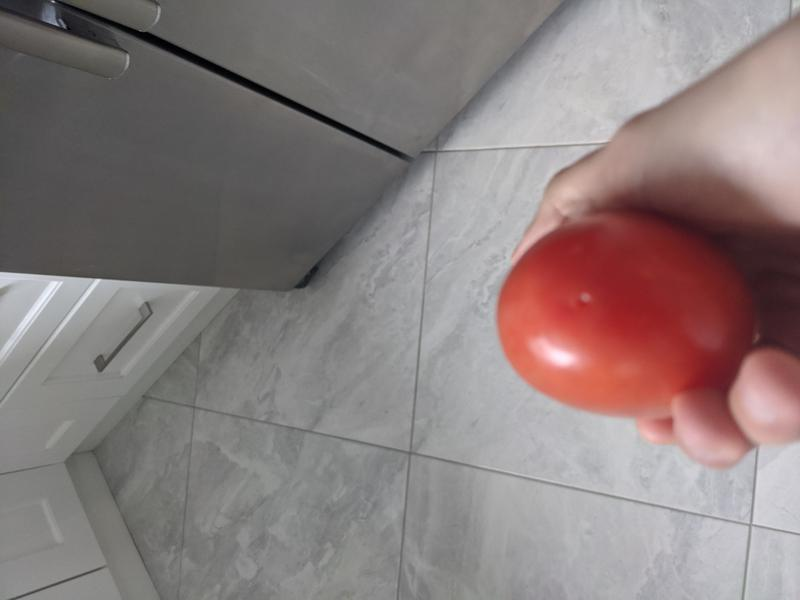tomato: (493, 213, 769, 416)
